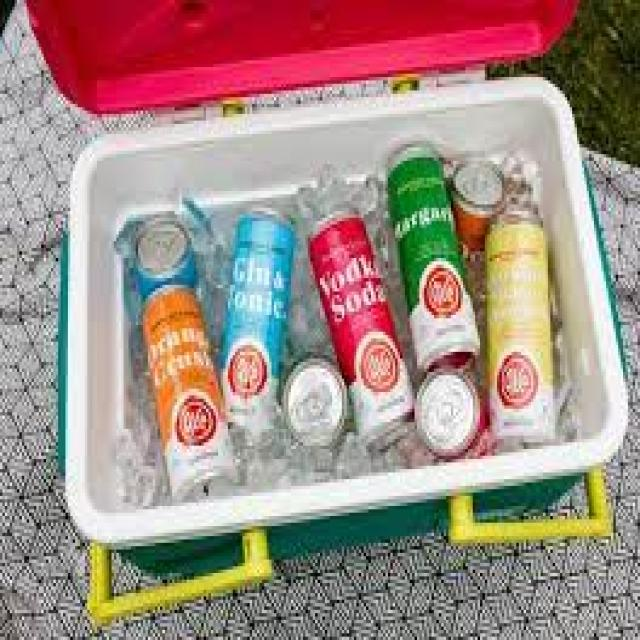Cans: (305, 205, 417, 442), (380, 138, 484, 368), (138, 278, 238, 496), (480, 208, 565, 446), (218, 205, 296, 422)
